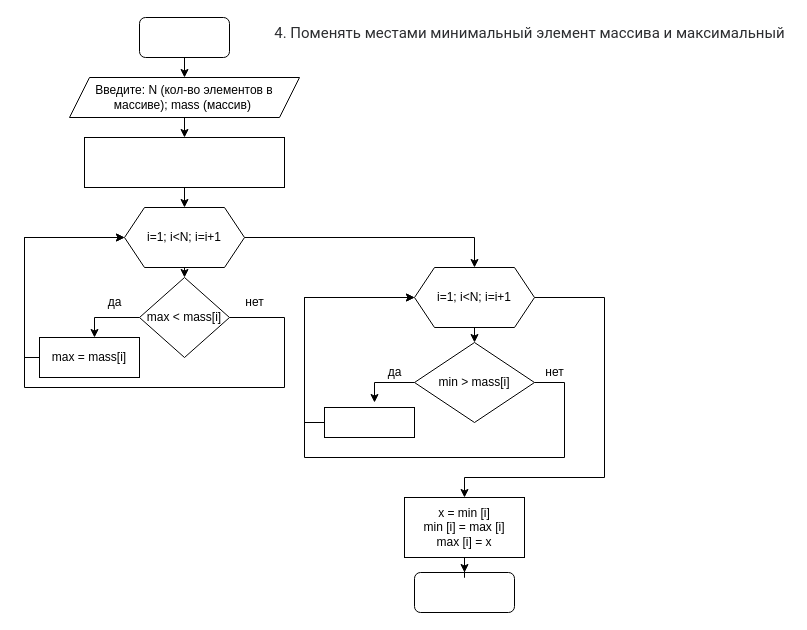
The diagram is 807 pixels wide and 630 high, and some of its shapes have lost their labels. The shapes that lost their labels are listed below. From the top down, each one's centre as x and y in pixels, then its label:
pixel 184 37: начало
pixel 184 162: N= 9 mass = [4,6,1,6,8,5,3,15,11] max = min = mass[0]
pixel 369 422: min = mass[i]
pixel 464 592: конец
